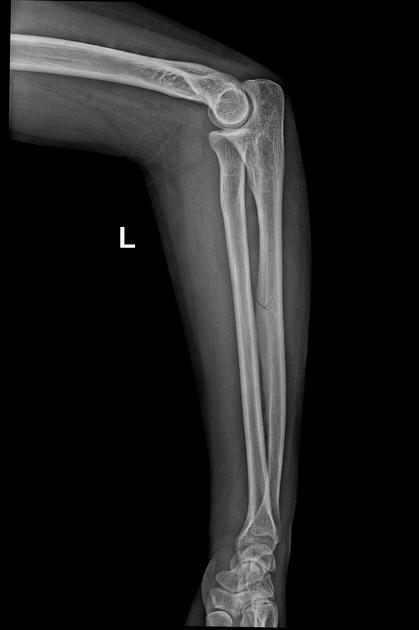fractured: (255, 298, 276, 314)
